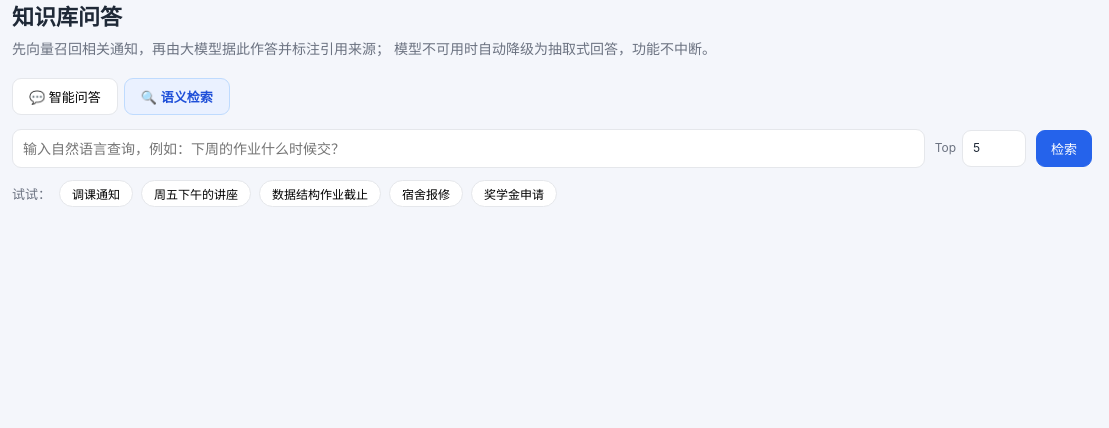
Test case: Search 组件 › 报错后点「重试」会用同一查询重新发起请求（无需重新输入）
Type "工作坊报名什么时候截止" into the field. click: (468, 149)
box: [12,129,925,168]
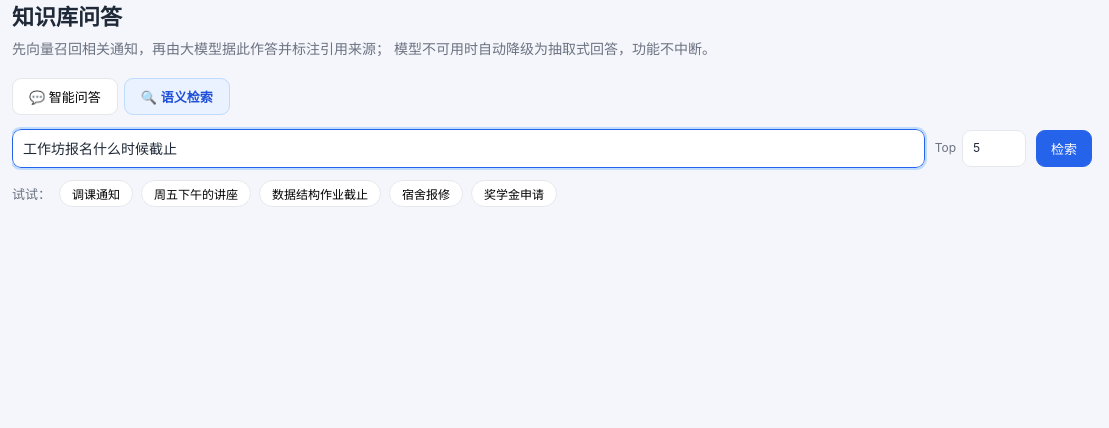
Click the button "检索". click: (1064, 149)
box: [1036,130,1092,167]
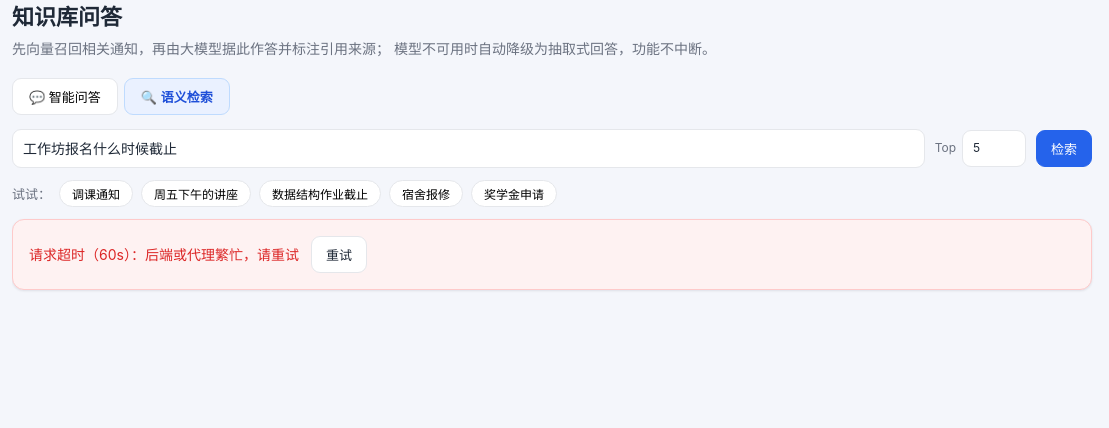
Result: the text "请求超时（60s）：后端或代理繁忙，请重试 重试" is shown at [12,220,1092,290]
Click the button "重试". click: (339, 255)
box: [311,236,367,274]
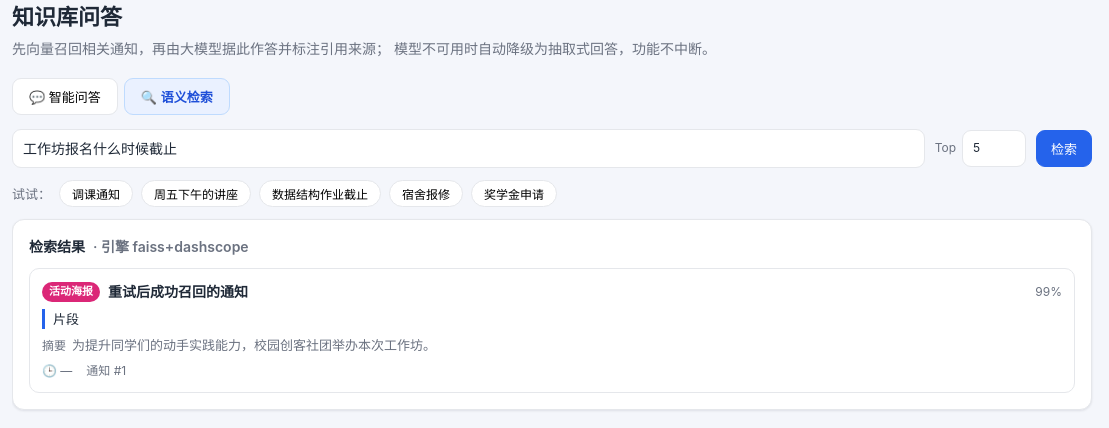
Result: the text "重试后成功召回的通知" is shown at [108,283,248,300]
